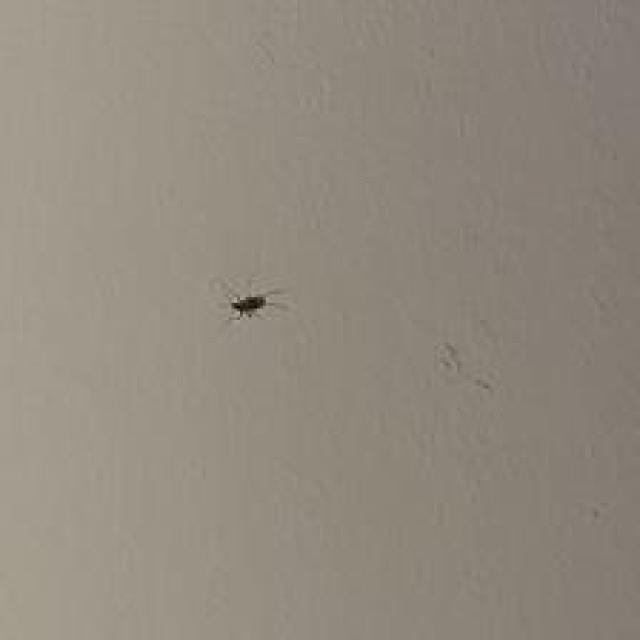Culex: (222, 284, 284, 322)
